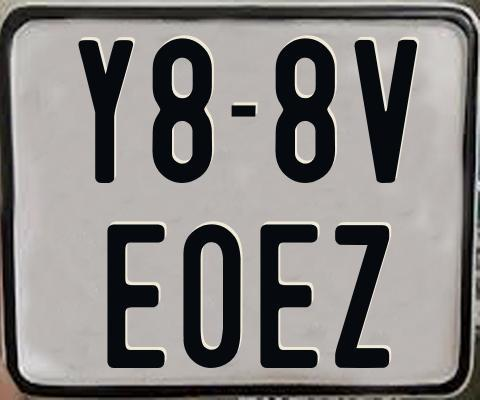0: (183, 221, 243, 370)
8: (151, 37, 216, 187), (275, 36, 337, 187)
E: (260, 222, 321, 371), (104, 224, 162, 372)
V: (354, 39, 422, 186)
Y: (75, 38, 130, 185)
Z: (332, 222, 391, 369)
